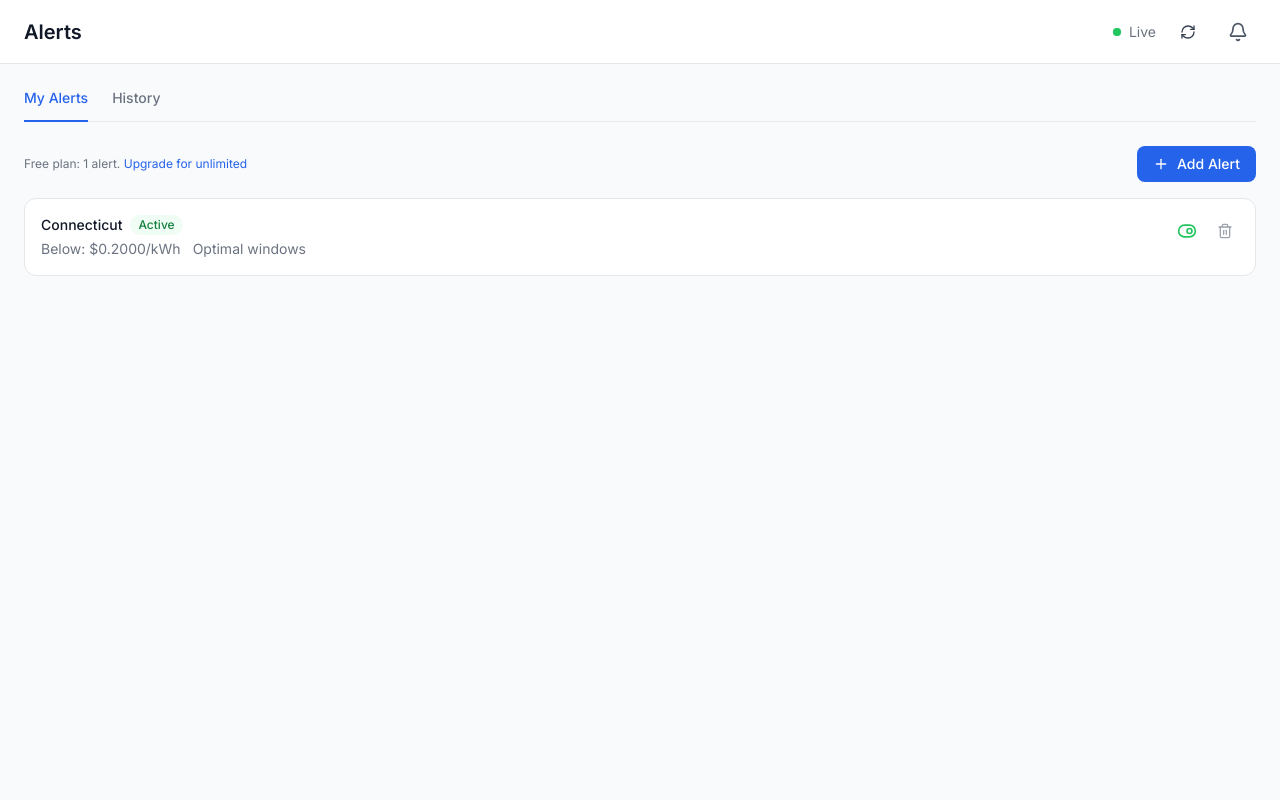
AlertsContent › shows generic error for non-403 create failures
Expected: the number of elements with test id "alert-card" is 1, [24,198,1256,276]
Click the button "Add Alert" at (1196, 164), box [1137,146,1256,182]
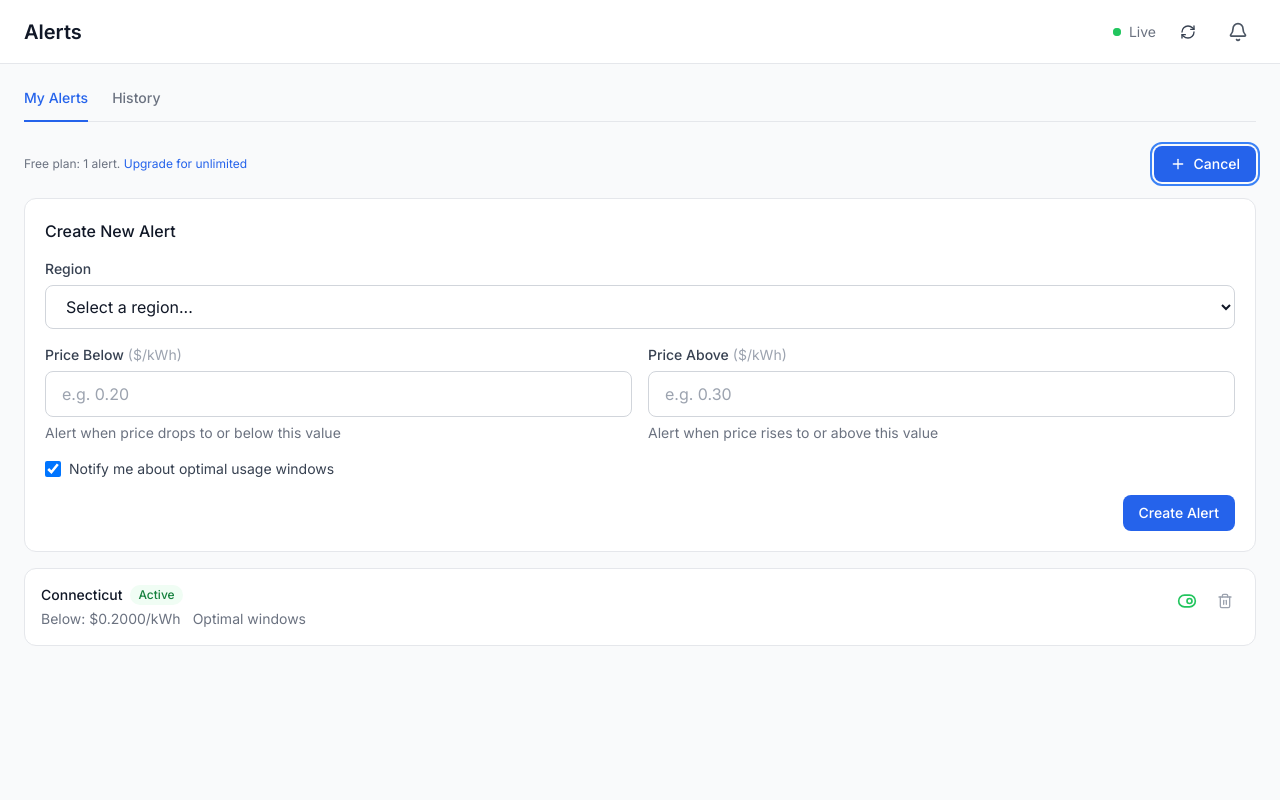
Select "Texas (TX)" in the dropdown with test id "region-select" at (640, 307), box [45,285,1235,329]
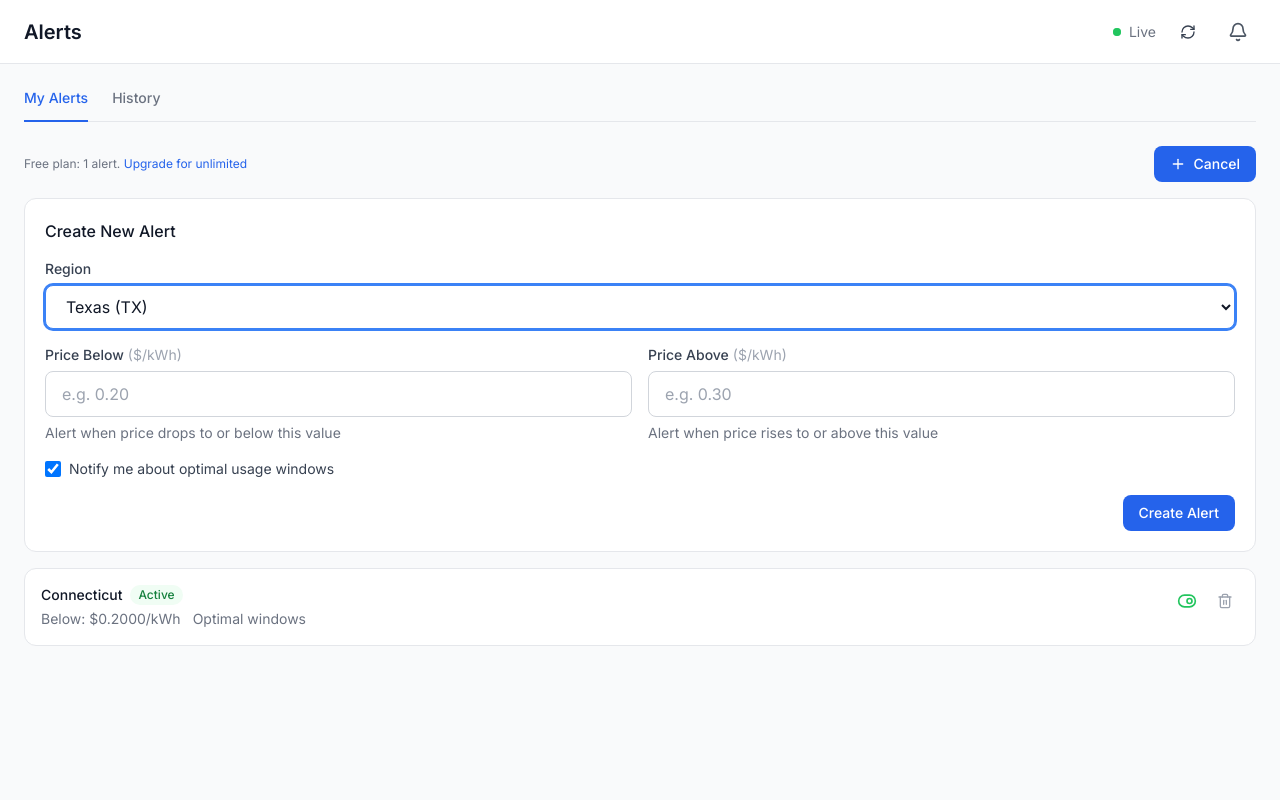
Click the button with test id "submit-alert" at (1179, 513), box [1123,495,1235,531]
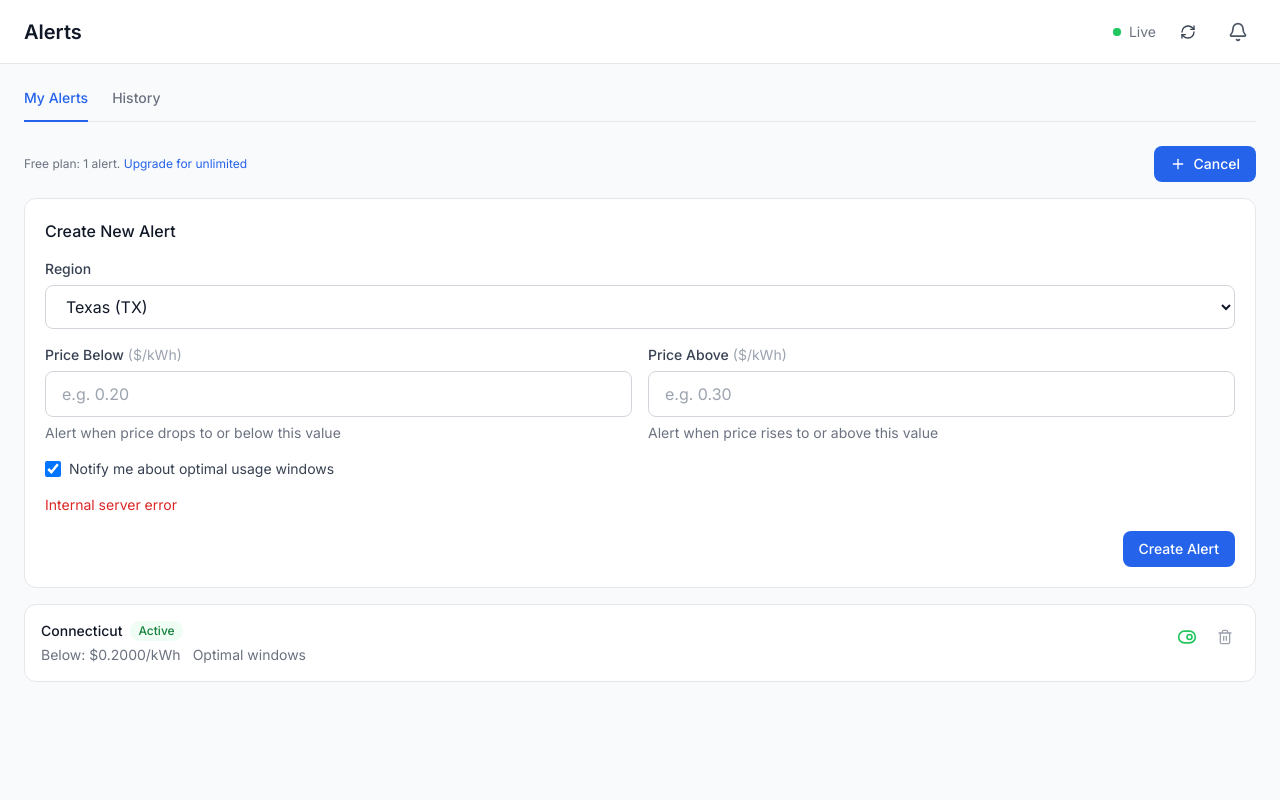
Expected: the text "Internal server error" is shown, [45,496,177,513]
